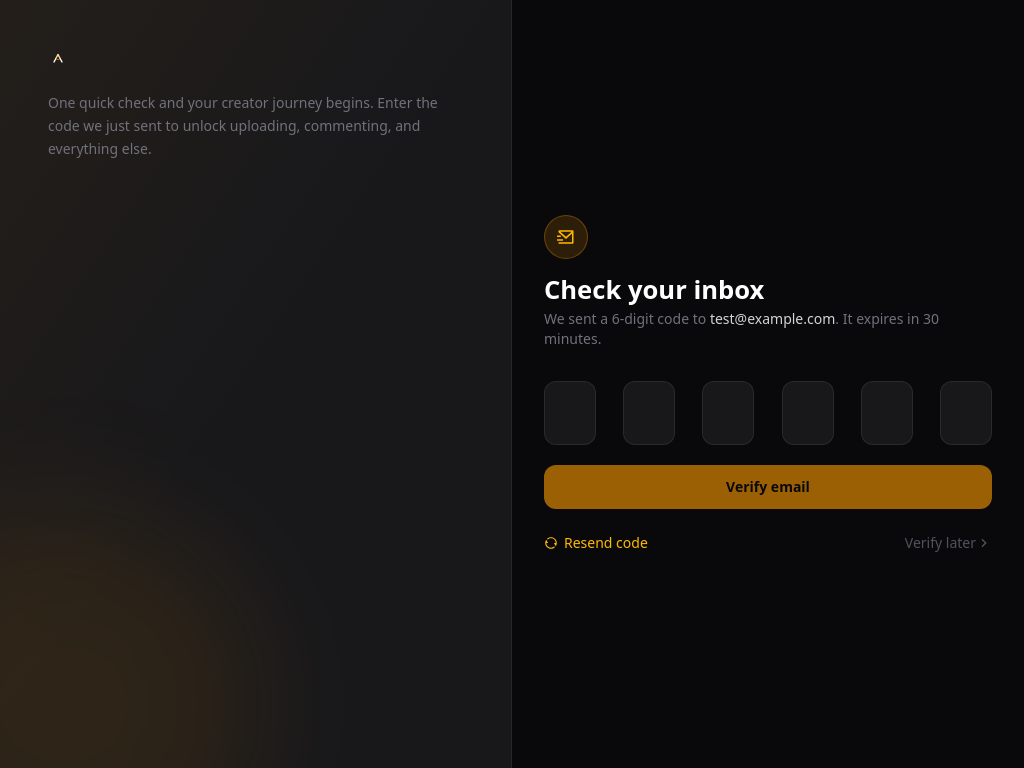
Test case: VerifyOtp › distributes a pasted 6-digit code across the boxes and verifies it
This screenshot has width=1024, height=768.
Type "123456" into the field named "Digit 1".
click(570, 413); type("123456")  # box [544,381,596,445]
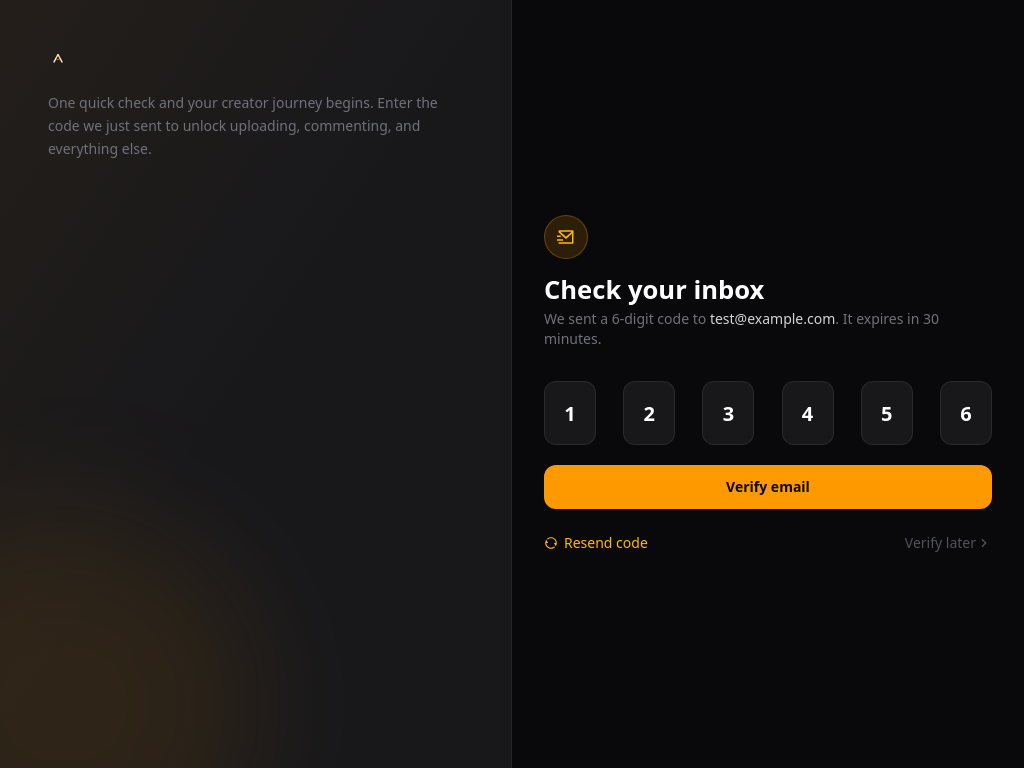
Expected: the field named "Digit 1" holds "1", [544,381,596,445]
Expected: the field named "Digit 2" holds "2", [623,381,675,445]
Expected: the field named "Digit 3" holds "3", [702,381,754,445]
Click the button "Verify email".
click(768, 487)  # box [544,465,992,509]
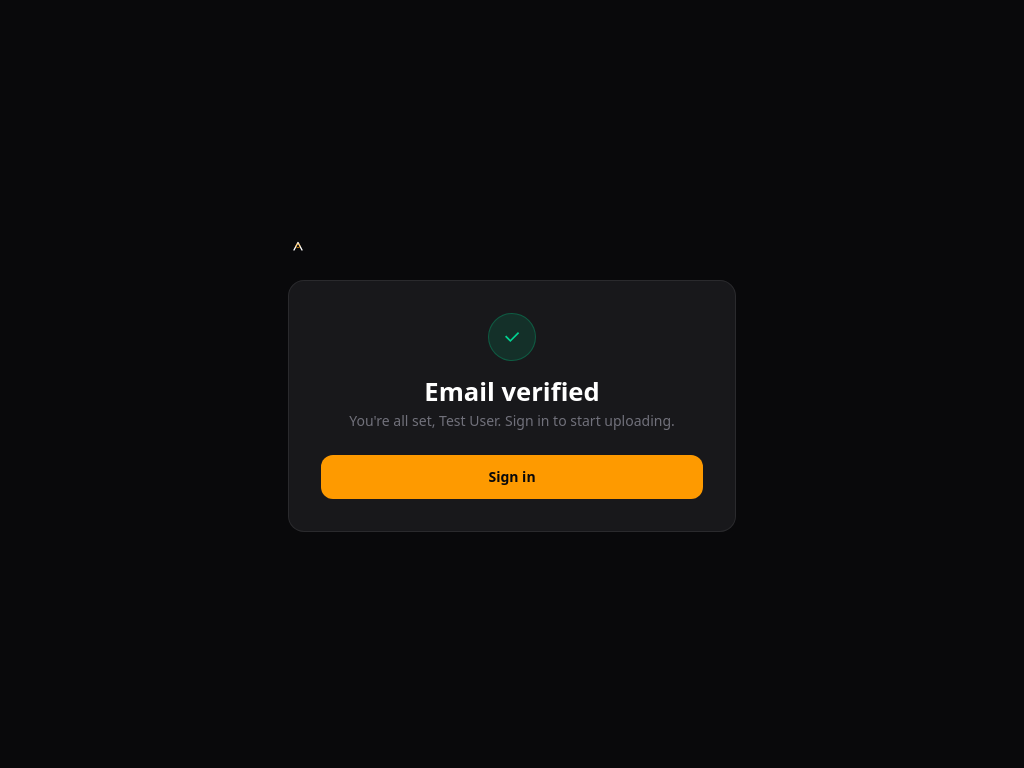
Expected: the heading "Email verified" is shown, [424,377,600,407]
